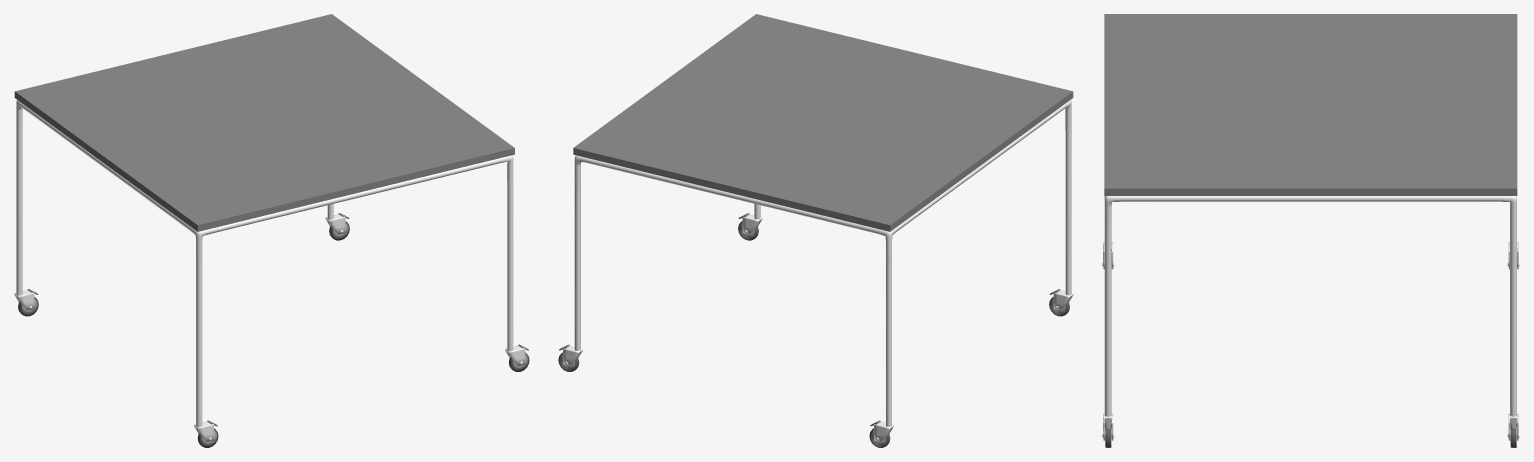
Rendered from table.fbx.
3 renders of one model, left to right at view 1: azimuth 30°, elevation 25°; view 2: azimuth 150°, elevation 25°; view 3: azimuth 270°, elevation 25°, orthographic. The views are drawn at different scales.
Visible parts, largest first — view 1: Cube.006; view 2: Cube.006; view 3: Cube.006.
Part boxes in pixels (bbox=[...]): Cube.006: bbox=[14, 14, 529, 447]; Cube.006: bbox=[558, 14, 1073, 447]; Cube.006: bbox=[1102, 14, 1519, 447].
Bounding box in the file's own units: 210 × 136 × 202.
